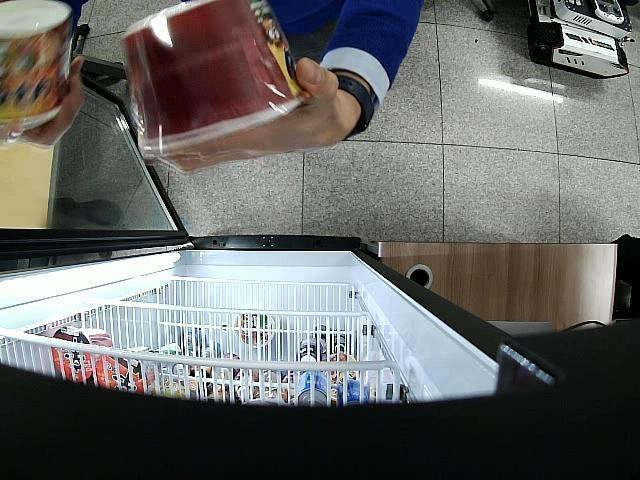05_nuguri_L: (123, 0, 307, 160), (0, 0, 72, 130)
